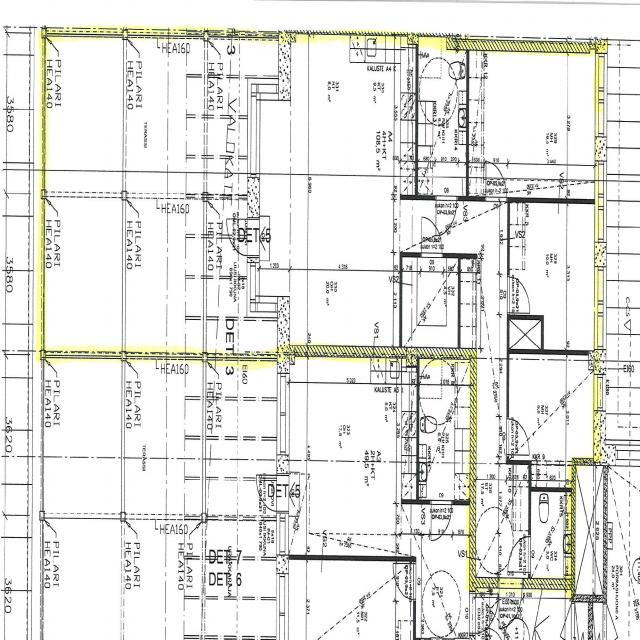door: (224, 217, 260, 258), (499, 578, 522, 630), (436, 198, 457, 240), (506, 276, 530, 312), (421, 217, 442, 258), (506, 419, 530, 454), (508, 536, 530, 573), (485, 162, 505, 202)
